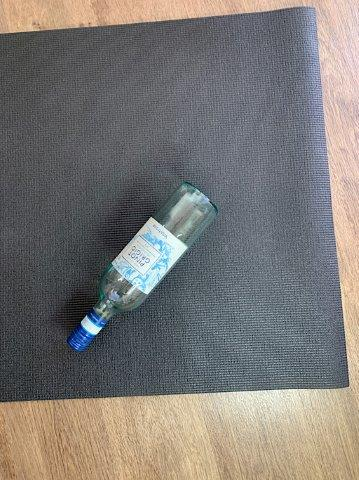botolkaca: (66, 181, 218, 353)
